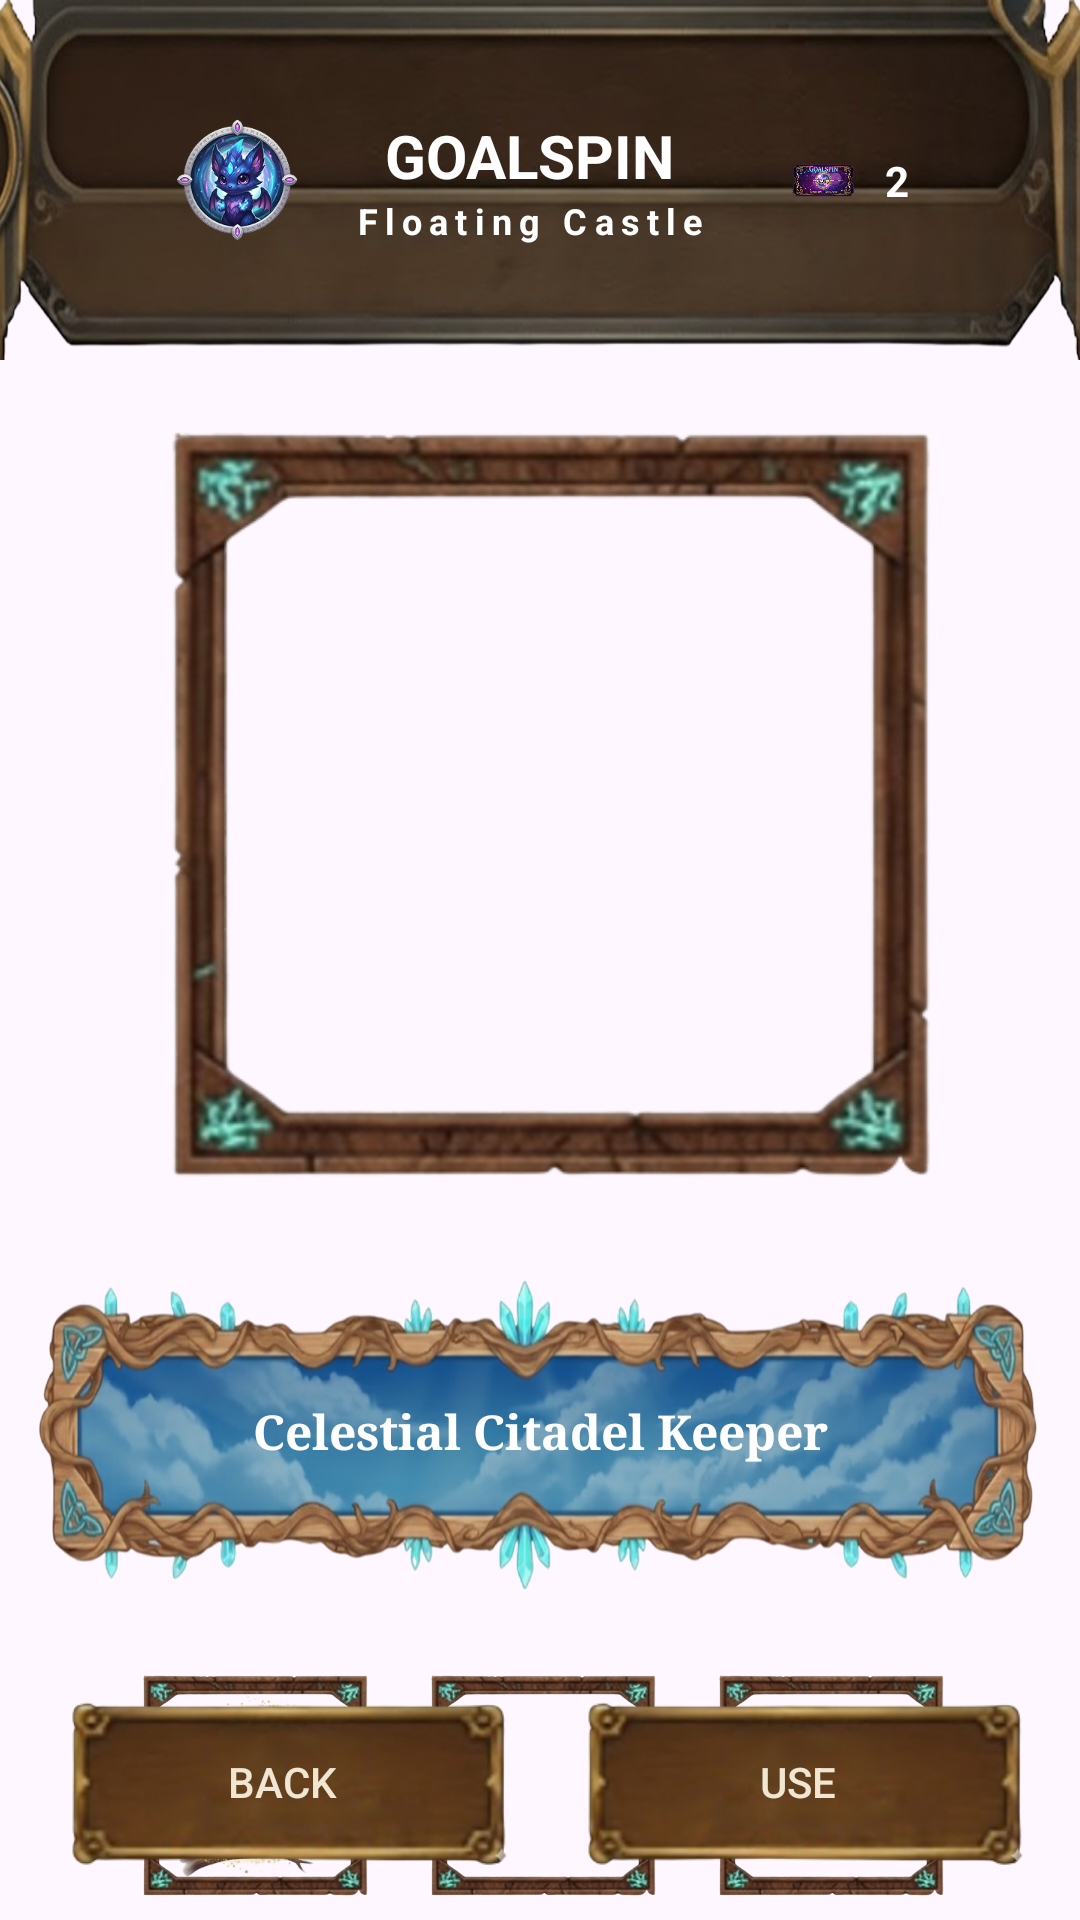

Where to tap for icons on this 1080*1920 app screen, as (x,y):
proflie: (237,186)
ticket: (823,181)
